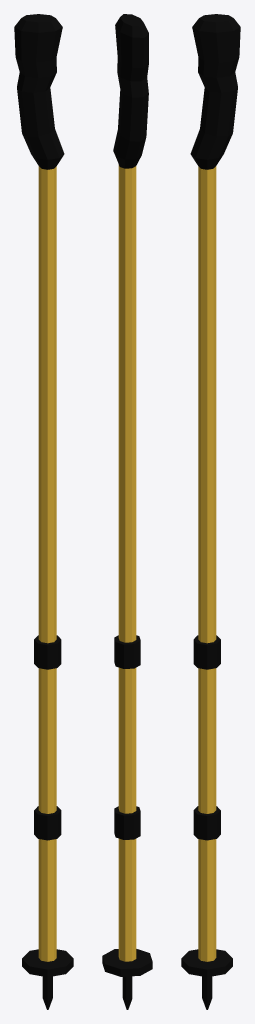
Rendered from ClimbingStick_02.fbx.
3 renders of one model, left to right at view 1: azimuth 90°, elevation 25°; view 2: azimuth 210°, elevation 25°; view 3: azimuth 270°, elevation 25°, orthographic.
Parts seen in each view (by area): view 1: ClimbingStick_02; view 2: ClimbingStick_02; view 3: ClimbingStick_02.
Part boxes in pixels (x1,y1,x2,y2): ClimbingStick_02: (14,14,73,1009); ClimbingStick_02: (102,14,152,1009); ClimbingStick_02: (181,14,240,1009).
Size of the model in its own units: 8.56 by 181 by 9.81.
